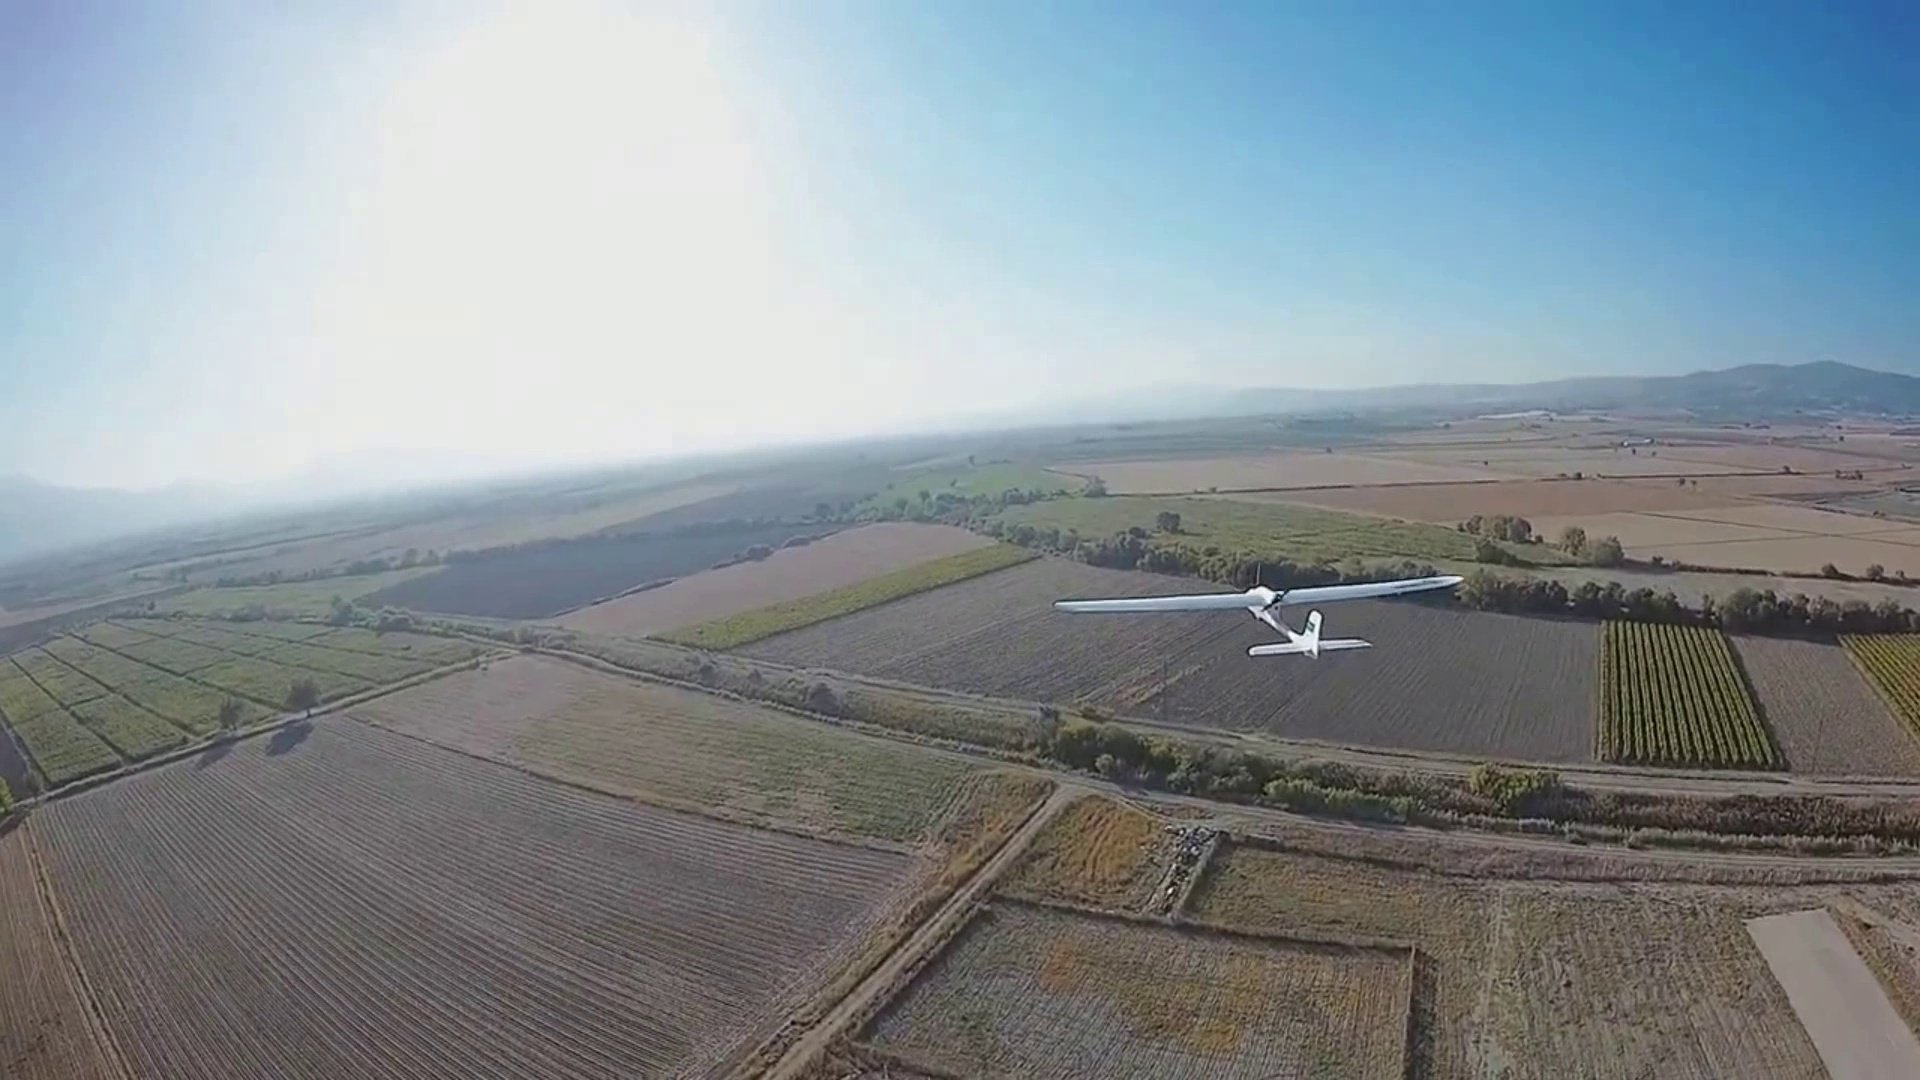airplane: (1054, 560, 1466, 655)
